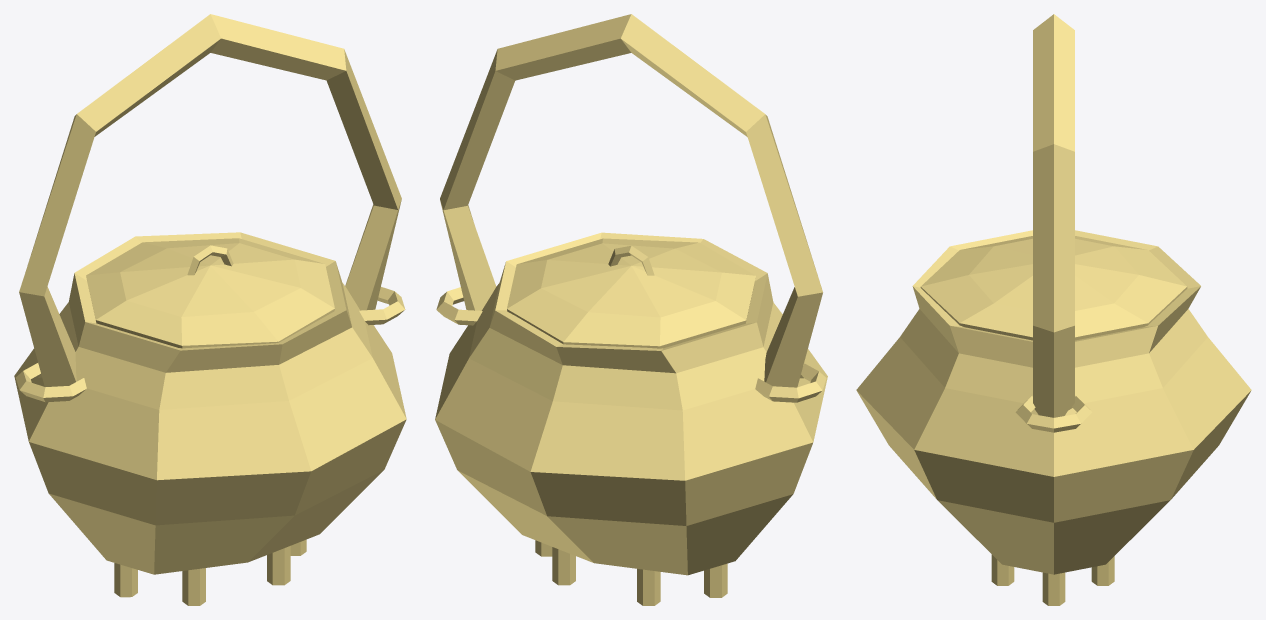
The model's file is Pot.001.fbx.
The picture shows the model from 3 angles, left to right: view 1: azimuth 30°, elevation 25°; view 2: azimuth 150°, elevation 25°; view 3: azimuth 270°, elevation 25°; orthographic projection. The views are drawn at different scales.
Visible parts, largest first — view 1: Pot.001; view 2: Pot.001; view 3: Pot.001.
Part boxes in pixels (x1,y1,x2,y2): Pot.001: [14, 14, 406, 605]; Pot.001: [435, 14, 827, 605]; Pot.001: [856, 14, 1251, 605].
Size of the model in its own units: 70.74 by 98.56 by 64.53.
